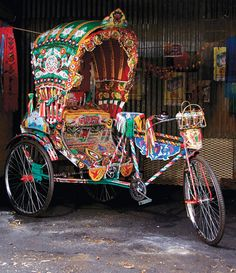Rickshaw: (13, 13, 224, 243)
